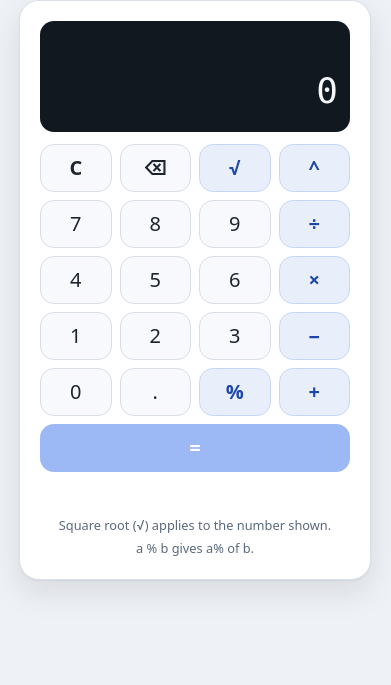
Test: Calculator › explains the square root of a negative number
Click the button named "Four" at (76, 280), box [40,256,112,304]
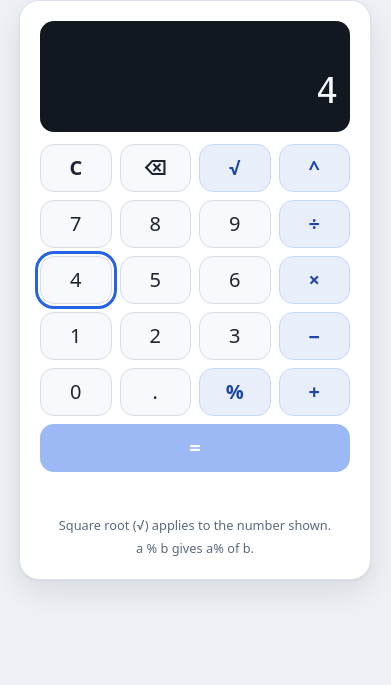
Click the button named "Subtract" at (314, 336), box [278,312,350,360]
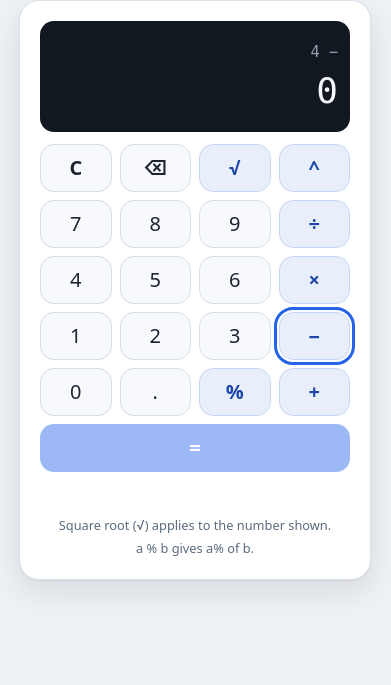
Click the button named "Nine" at (235, 224), box [199,200,270,248]
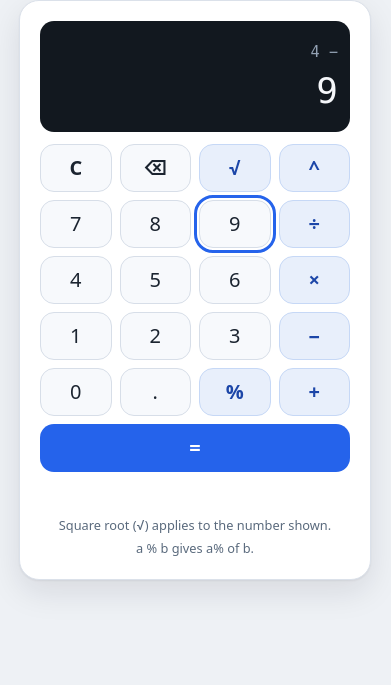
Click the button named "Equals" at (195, 448), box [40,424,350,472]
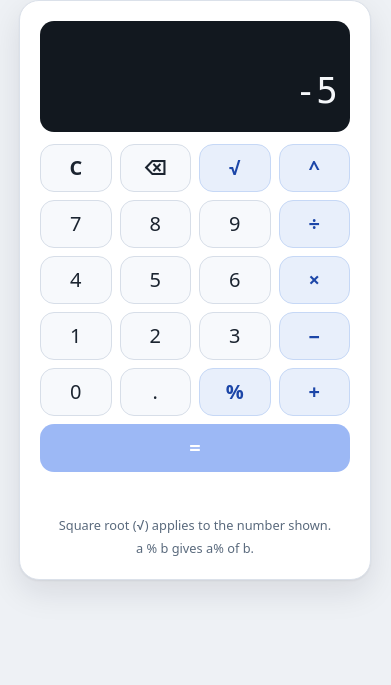
Expected: the text "-5" is shown, [295,70,338,111]
Click the button named "Square root" at (235, 168), box [199,144,270,192]
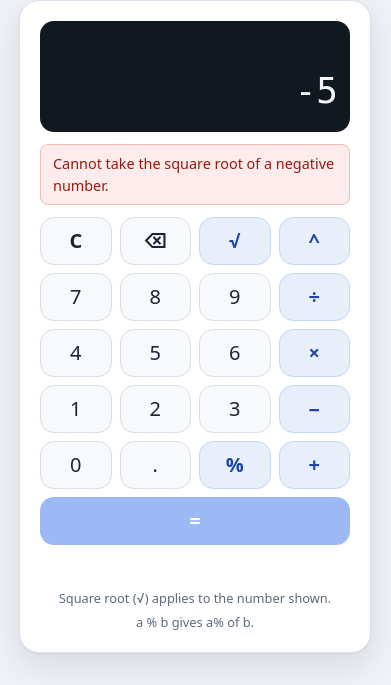
Expected: the message reads "Cannot take the square root of a negative number.", [53,154,334,195]
